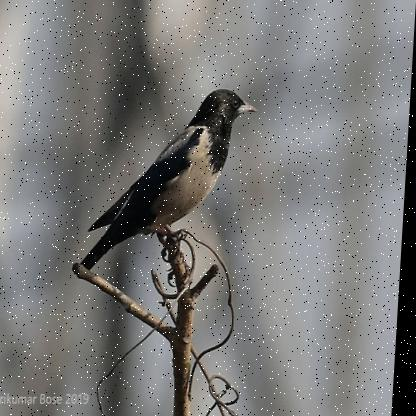Burung: (79, 88, 259, 271)
